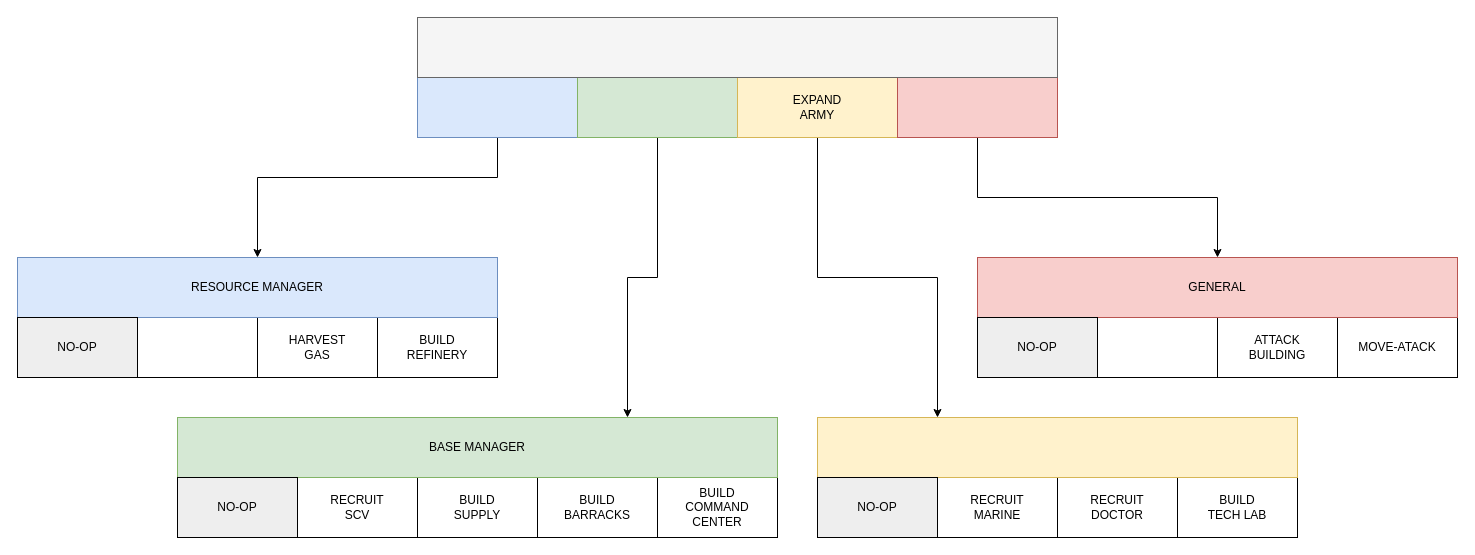
The diagram is 1475 pixels wide and 555 high, and some of its shapes have lost their labels. The box of each missing label's shape, as (x1, y1, x2, y2) in pixels:
ARMY MANAGER: (816, 416, 1298, 478)
ATTACK: (896, 76, 1058, 138)
ATTACK UNIT: (1096, 316, 1218, 378)
EXPAND BASE: (576, 76, 738, 138)
GAME MANAGER: (416, 16, 1058, 78)
GATHER RESOURCES: (416, 76, 578, 138)
HARVEST MINERALS: (136, 316, 258, 378)
